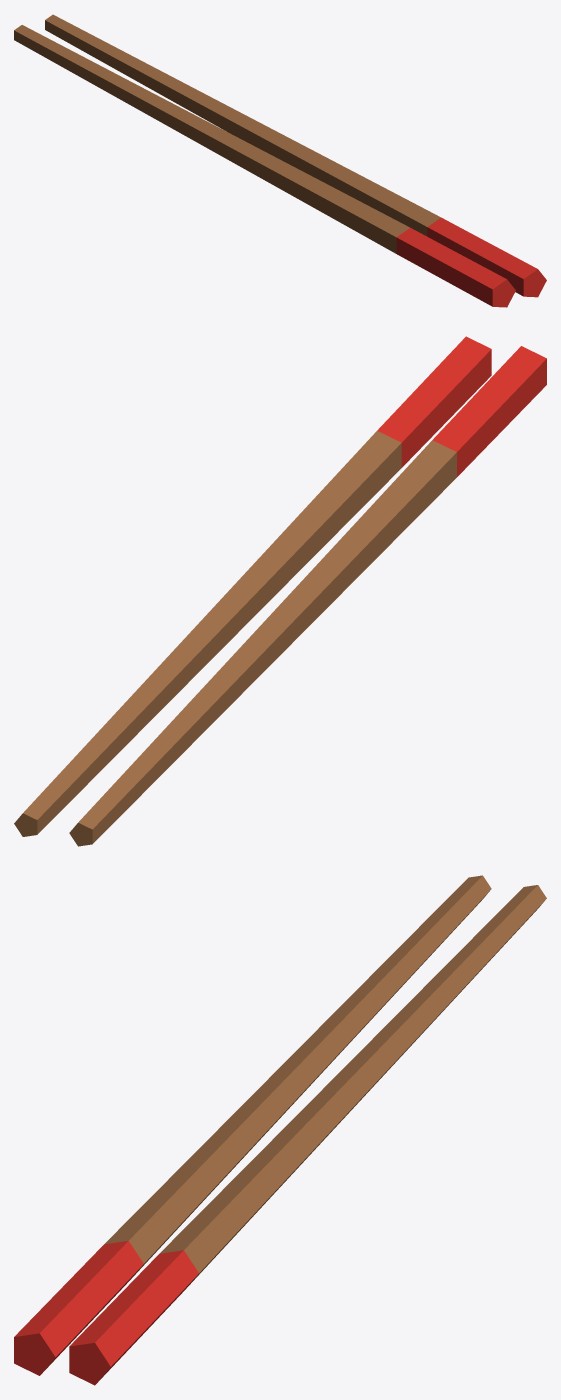
File: chopsticks.glb
3 views of the same model, one above another, from view 1: azimuth 30°, elevation 25°; view 2: azimuth 150°, elevation 25°; view 3: azimuth 330°, elevation 25° (orthographic). The views are drawn at different scales.
Visible parts, largest first — view 1: chopsticks; view 2: chopsticks; view 3: chopsticks.
Part boxes in pixels (x1,y1,x2,y2): chopsticks: (14,14,546,307); chopsticks: (14,336,546,846); chopsticks: (14,875,546,1385).
Size of the model in its own units: 0.0525 by 0.00951 by 0.2403.
